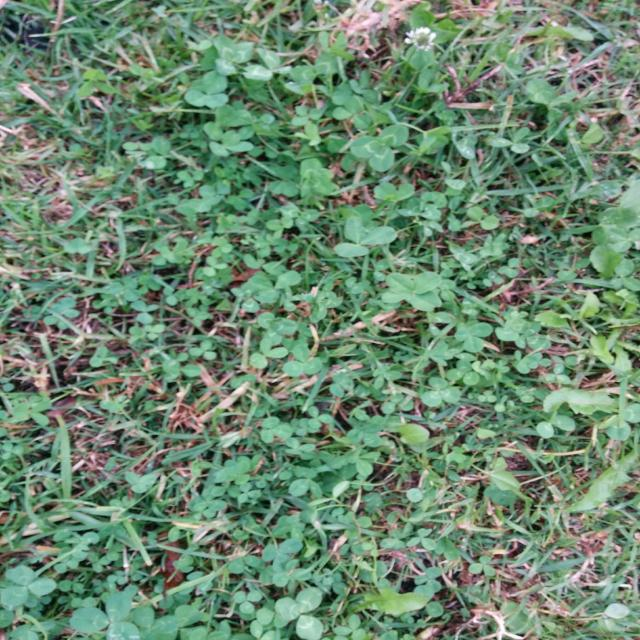Four Leaf Clover: (381, 272, 441, 312)
